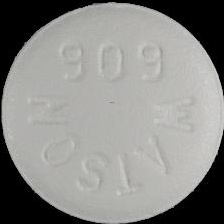60429-278: (0, 0, 224, 224)
